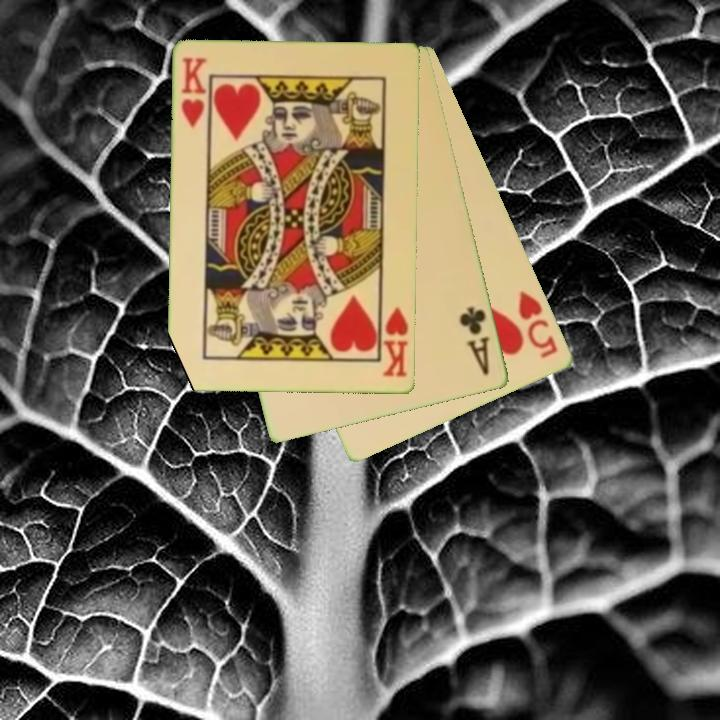5h: (515, 287, 561, 362)
Ac: (456, 303, 493, 379)
Kh: (377, 299, 412, 380), (178, 54, 211, 132)
